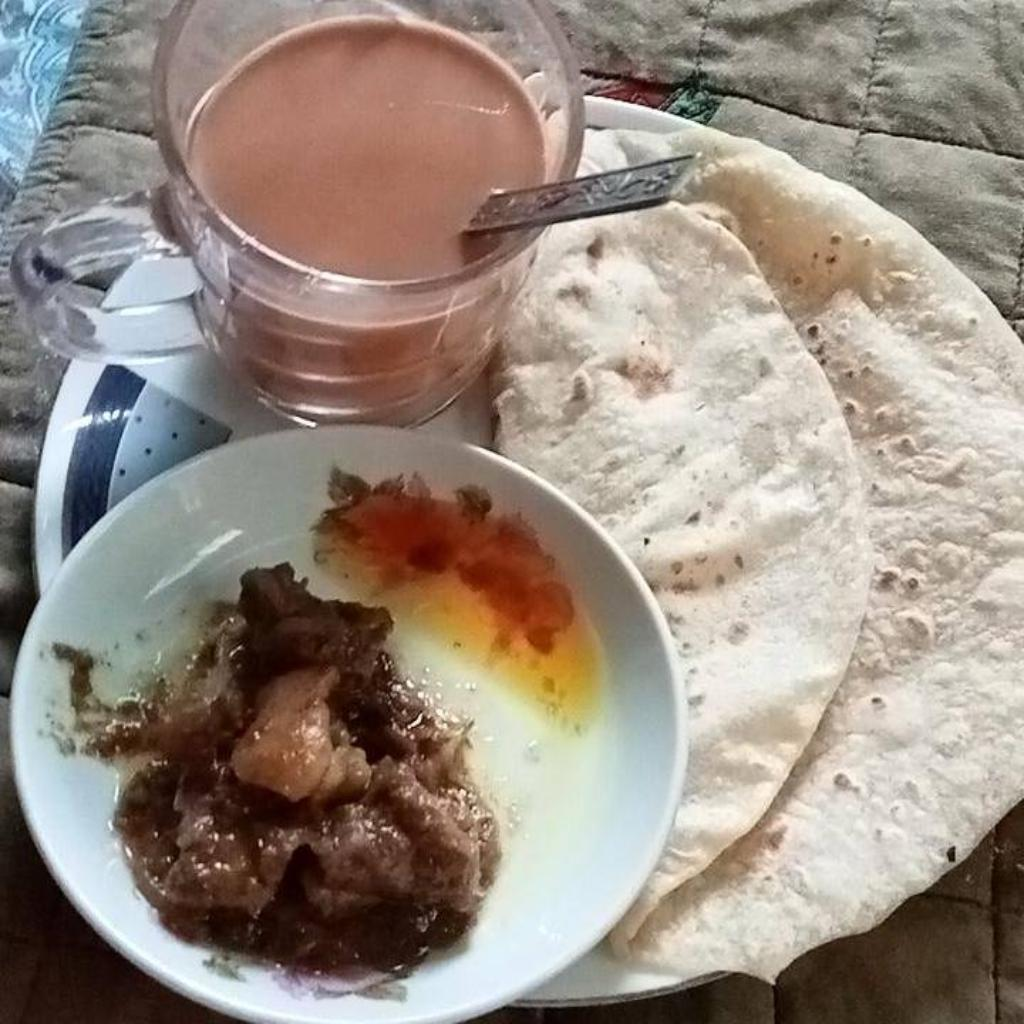beef: (89, 561, 494, 961)
cha: (190, 16, 543, 283)
ruti: (496, 118, 1019, 974)
